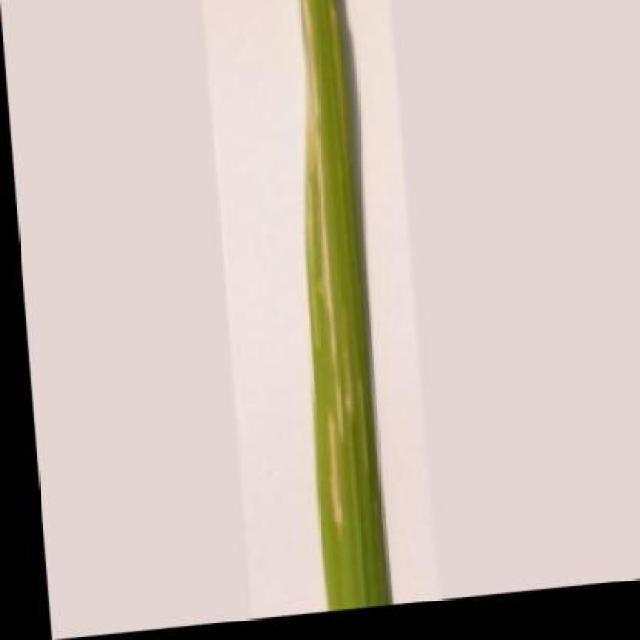Brown_Spot: (270, 0, 391, 618)
